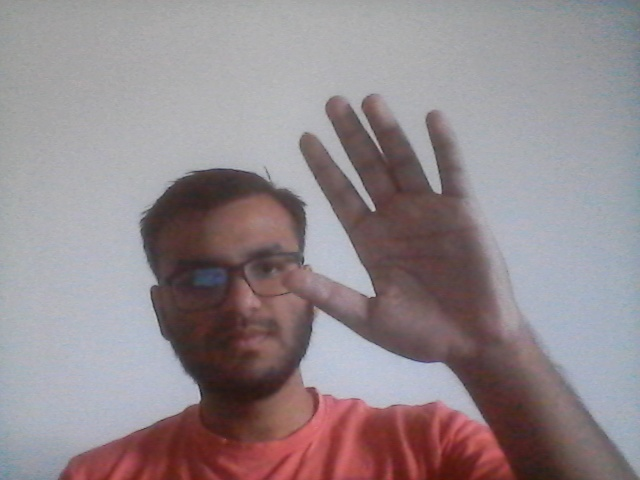Hello: (280, 94, 530, 358)
